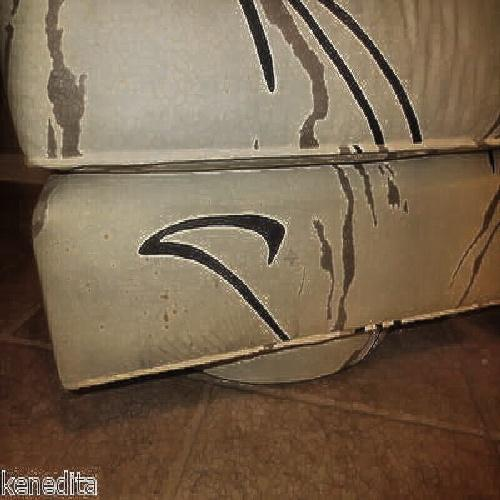chair: (23, 17, 483, 378)
